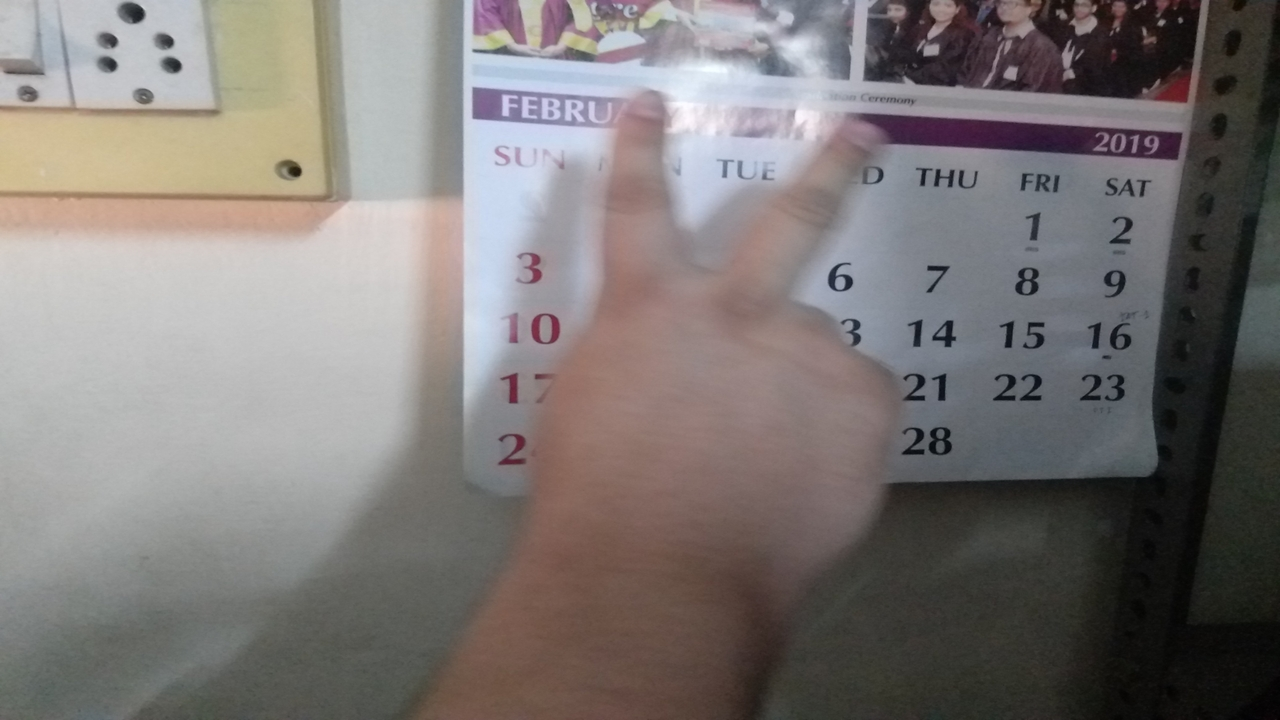fingertip: (822, 111, 889, 167), (608, 82, 672, 128)
